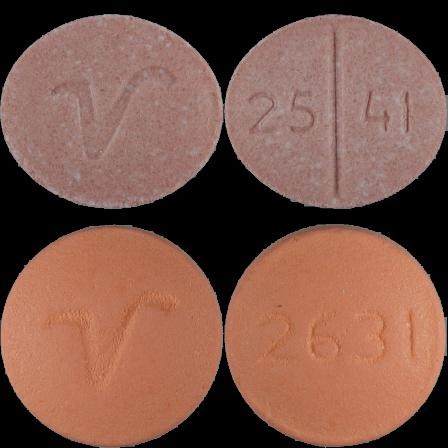0603-2957: (0, 0, 224, 224)
